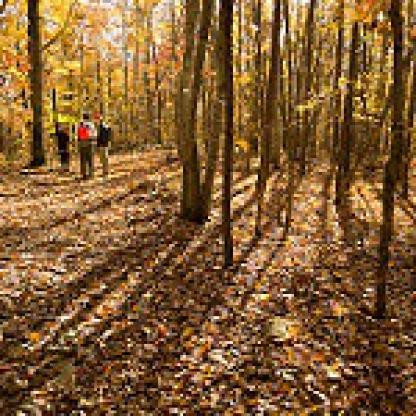trunk: (172, 0, 209, 228), (382, 0, 408, 217), (216, 0, 236, 266), (258, 0, 286, 161), (25, 0, 48, 167)
